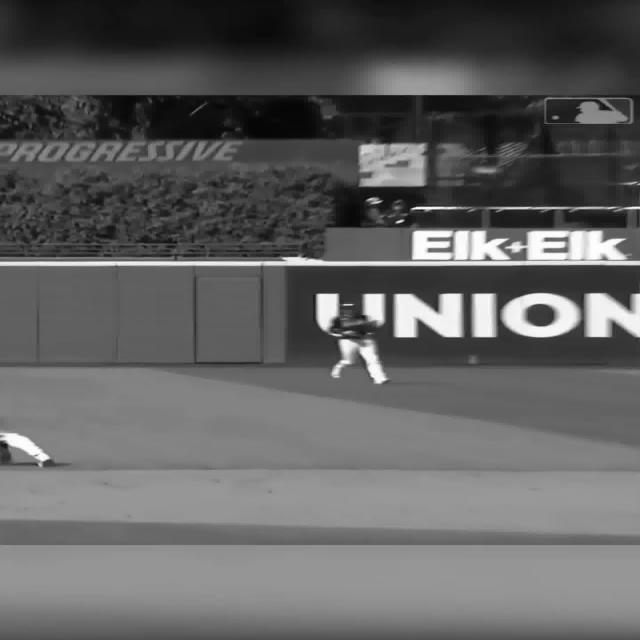shoe: (33, 454, 53, 467), (330, 363, 342, 378), (372, 377, 390, 384)
